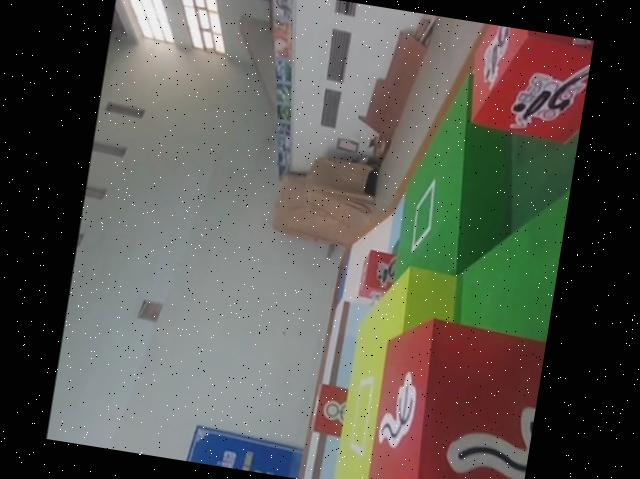R1: (460, 22, 594, 147), (355, 246, 406, 304)
R2 Real: (358, 298, 548, 479)
